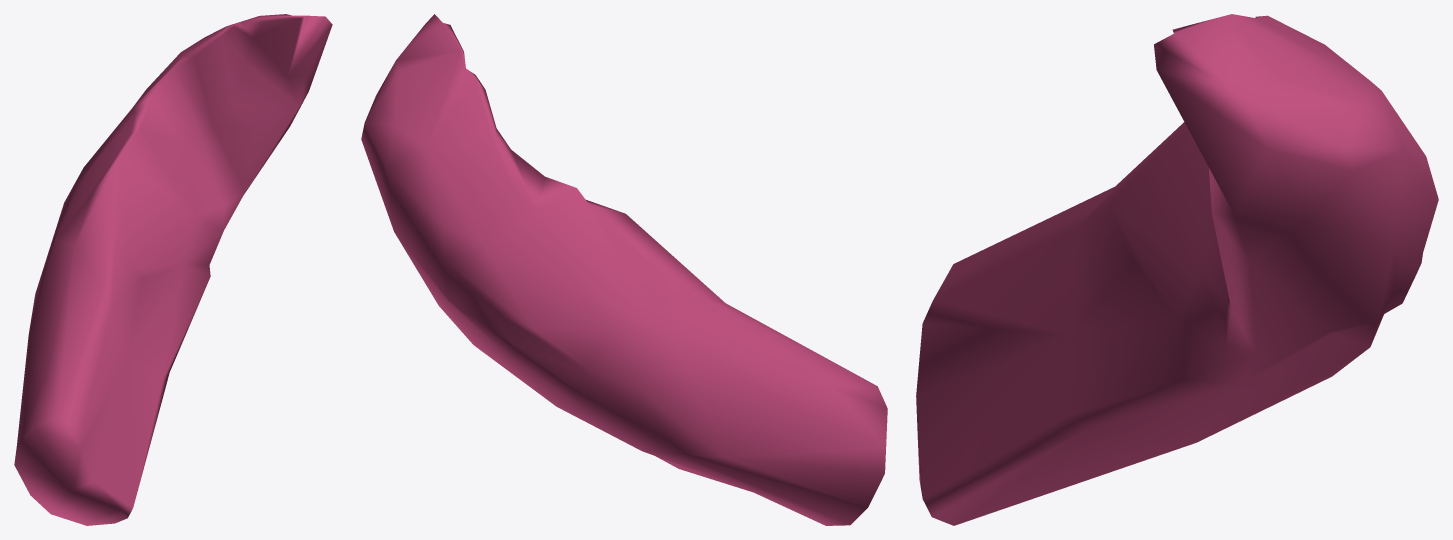
The picture shows the model from 3 angles, left to right: view 1: azimuth 30°, elevation 25°; view 2: azimuth 150°, elevation 25°; view 3: azimuth 270°, elevation 25°; orthographic projection. The views are drawn at different scales.
Visible parts, largest first — view 1: 左侧翼外肌上头; view 2: 左侧翼外肌上头; view 3: 左侧翼外肌上头.
Part boxes in pixels (left/top/right/bottom): 左侧翼外肌上头: left=14, top=14, right=332, bottom=525; 左侧翼外肌上头: left=361, top=14, right=887, bottom=525; 左侧翼外肌上头: left=916, top=14, right=1438, bottom=525.
Bounding box in the file's own units: 0.0313 × 0.033 × 0.0217.
